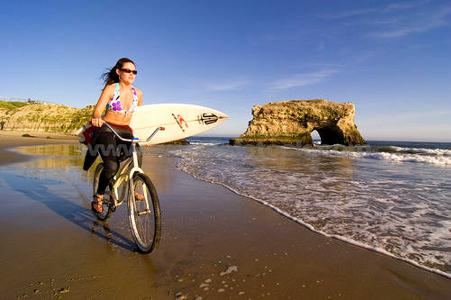person: (80, 59, 149, 214)
